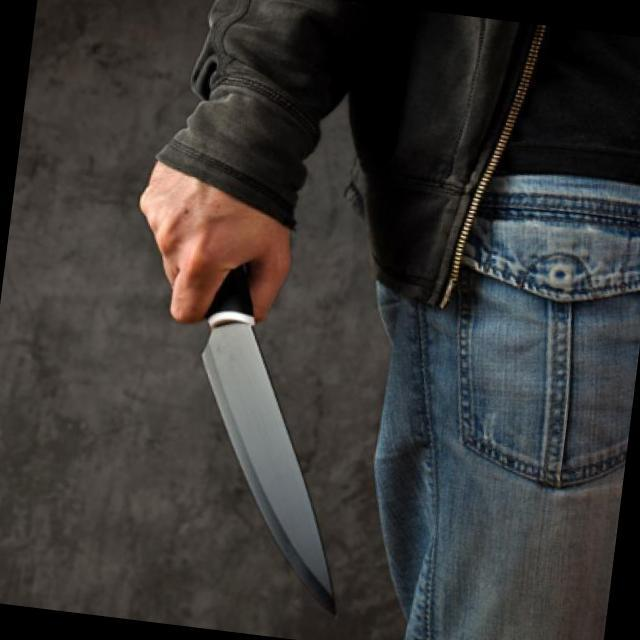Knife: (90, 217, 388, 626)
